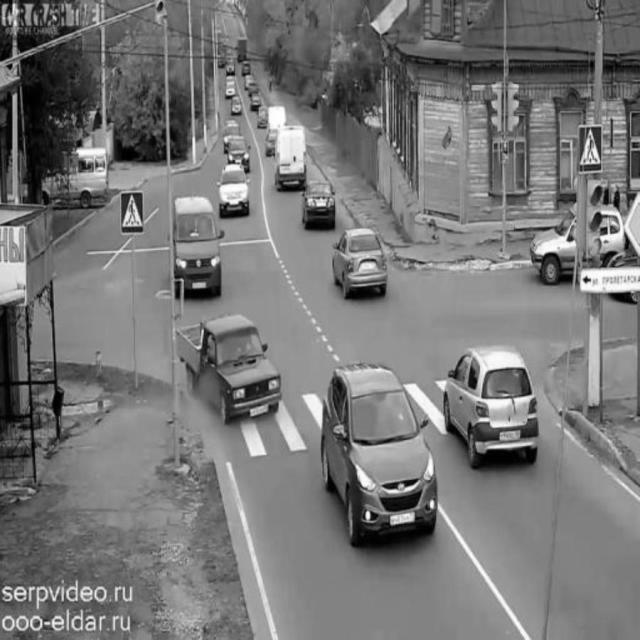vehicle: (323, 363, 439, 543), (440, 348, 541, 470), (178, 317, 284, 423), (532, 209, 620, 285), (170, 195, 218, 298), (333, 229, 389, 302), (44, 151, 108, 206), (275, 116, 305, 194), (299, 182, 339, 229), (219, 164, 249, 218), (229, 133, 251, 170), (255, 102, 273, 128), (228, 94, 244, 114), (239, 59, 254, 75), (225, 58, 237, 74)
